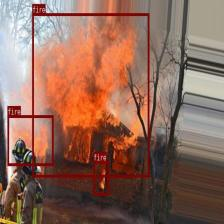fire: (32, 13, 149, 176), (7, 114, 53, 166), (93, 160, 109, 196)
